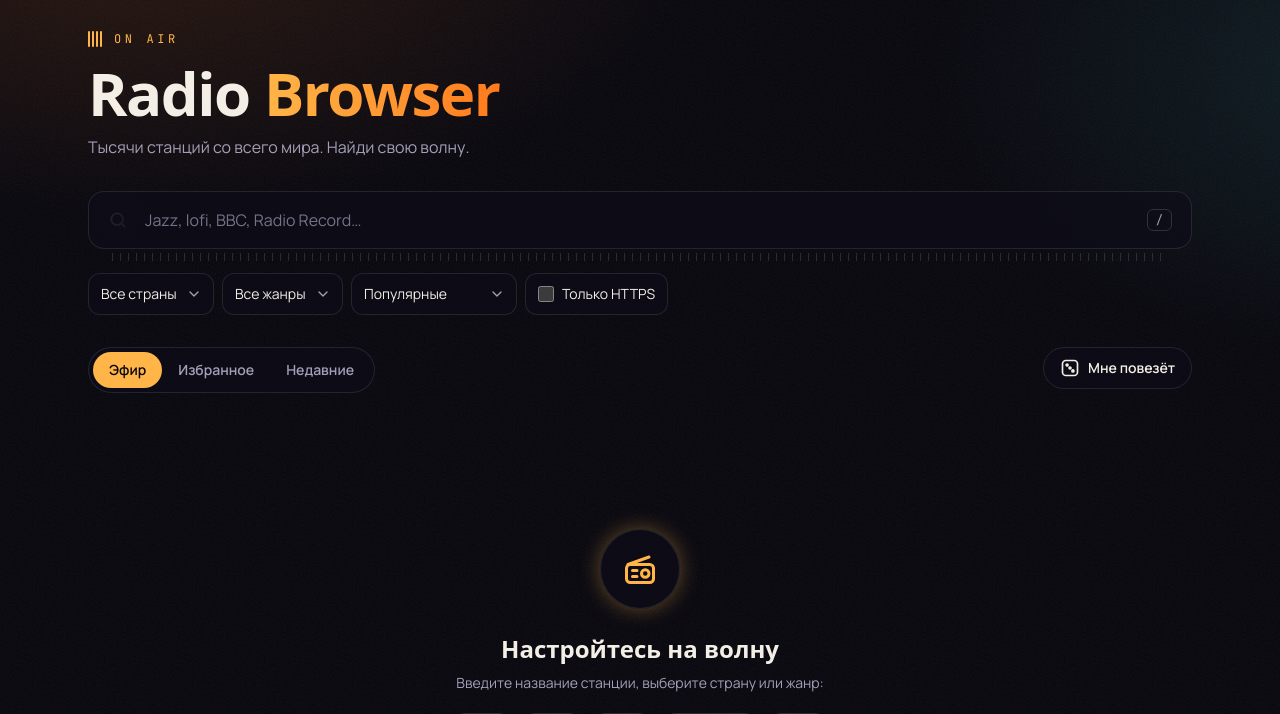
Test: App › «Загрузить ещё» дописывает станции в конец списка
This screenshot has width=1280, height=714.
Type "fm" into the search field named "Поиск станции по названию" at (640, 220), box [88,191,1192,249]
Then press Enter
(page scrolled)
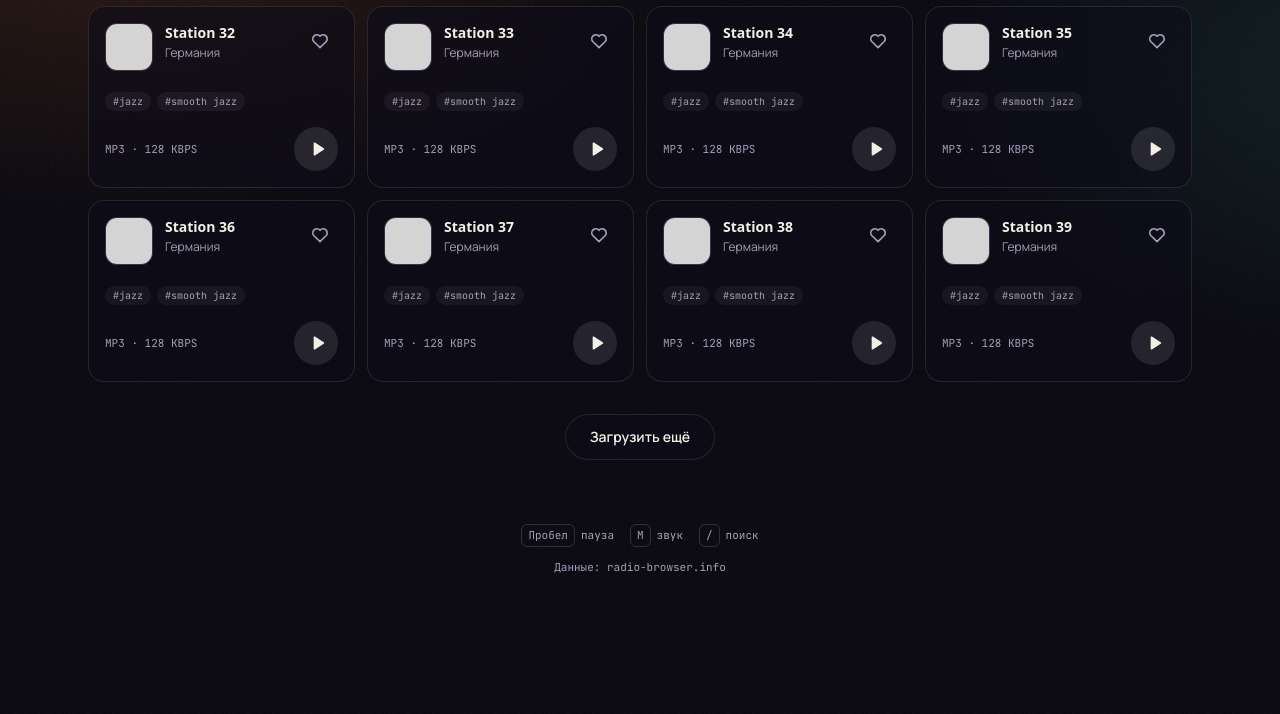
Click the button "Загрузить ещё" at (640, 437), box [565,414,715,460]
(page scrolled)
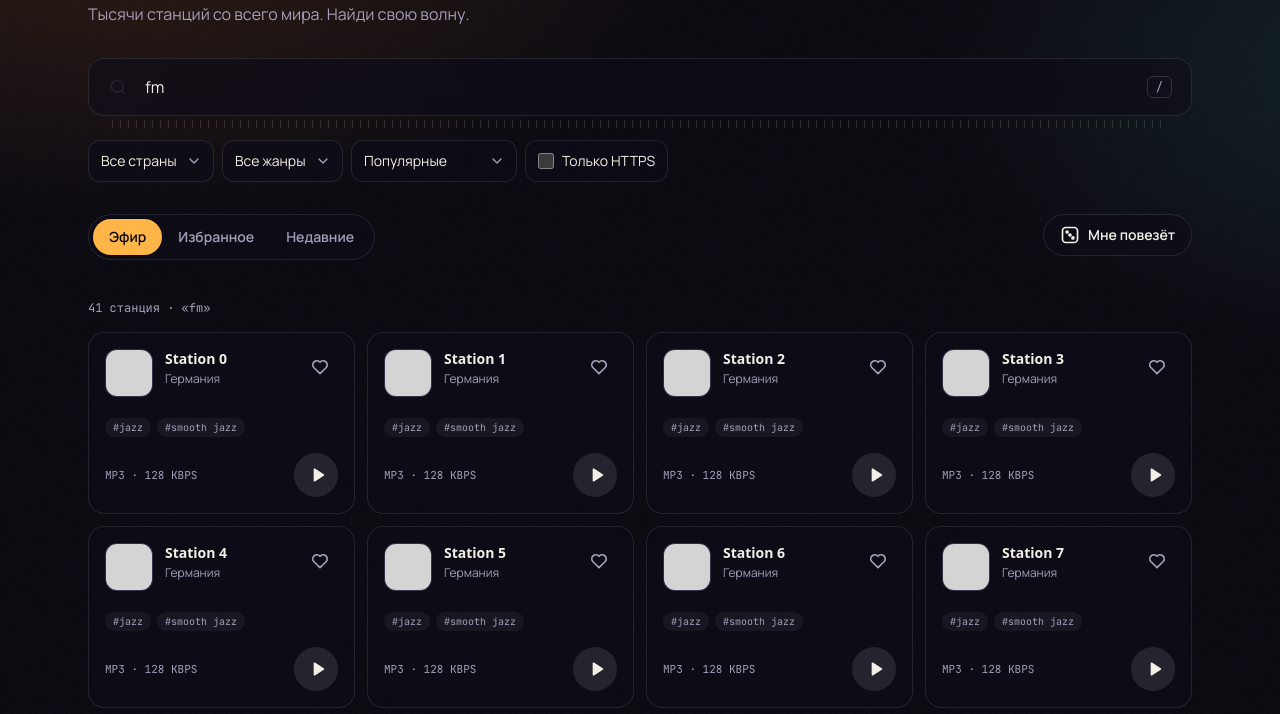
Expected: the heading "Station 0" is shown, [165,349,227,368]
Expected: the button "Загрузить ещё" is gone
